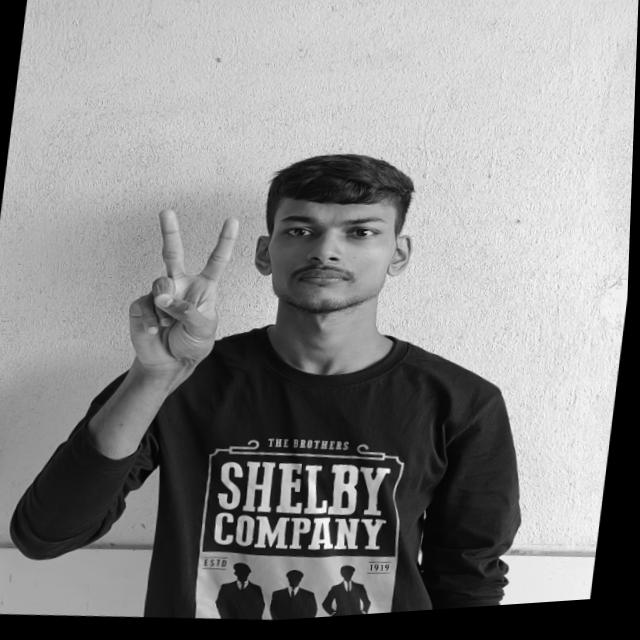Victory: (122, 205, 249, 384)
